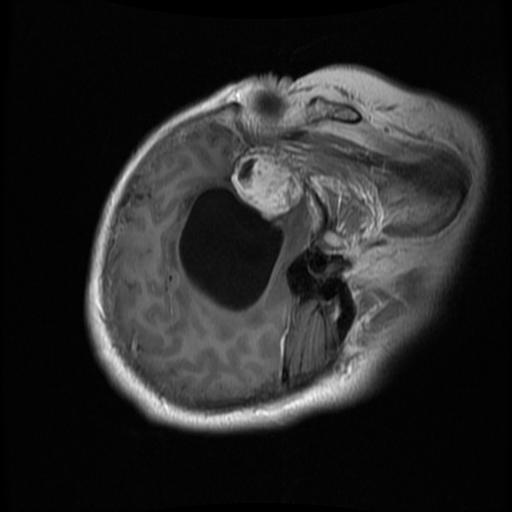meningioma: (230, 148, 303, 215)
